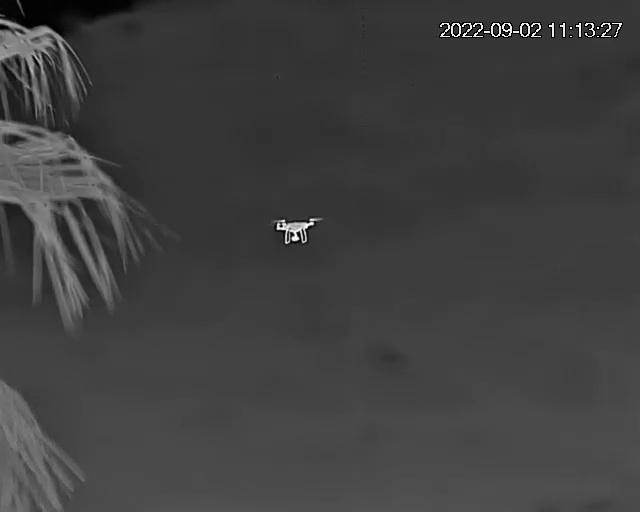DJI-Phantom: (269, 216, 327, 245)
